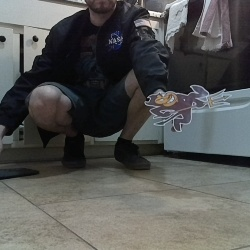sparky: (143, 84, 233, 133)
